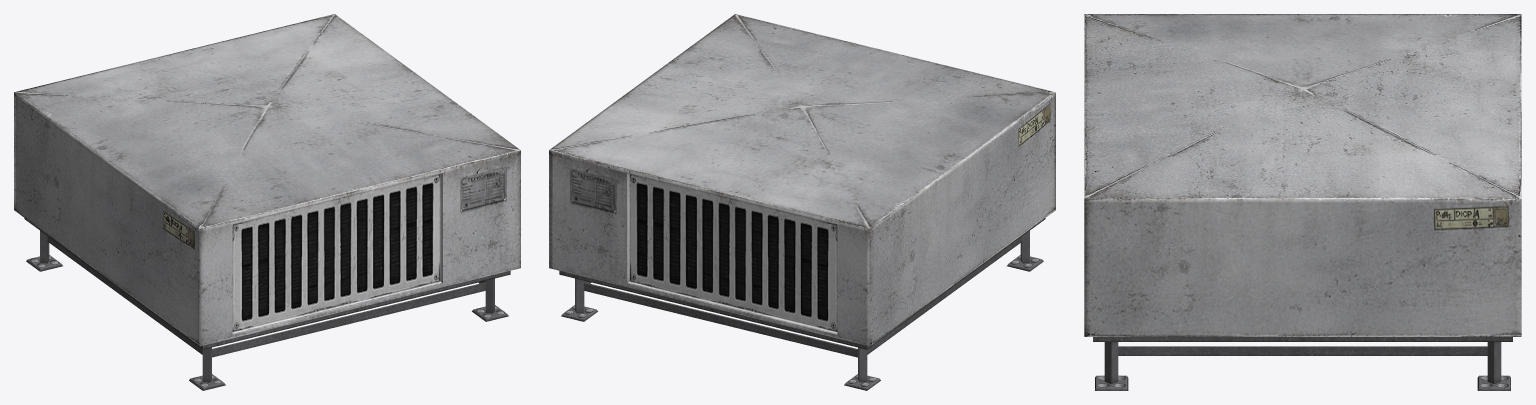
File: M_ACRooftop_06.dae
The picture shows the model from 3 angles, left to right: view 1: azimuth 30°, elevation 25°; view 2: azimuth 150°, elevation 25°; view 3: azimuth 270°, elevation 25°; orthographic projection. The views are drawn at different scales.
Parts seen in each view (by area): view 1: S_ACRooftop_06.003; view 2: S_ACRooftop_06.003; view 3: S_ACRooftop_06.003.
Boxes of the visible parts, x1,y1,x2,y2 form: S_ACRooftop_06.003: (14, 14, 520, 390); S_ACRooftop_06.003: (549, 14, 1055, 390); S_ACRooftop_06.003: (1084, 14, 1521, 390).
Size of the model in its own units: 1.6 by 1.6 by 0.8733.
